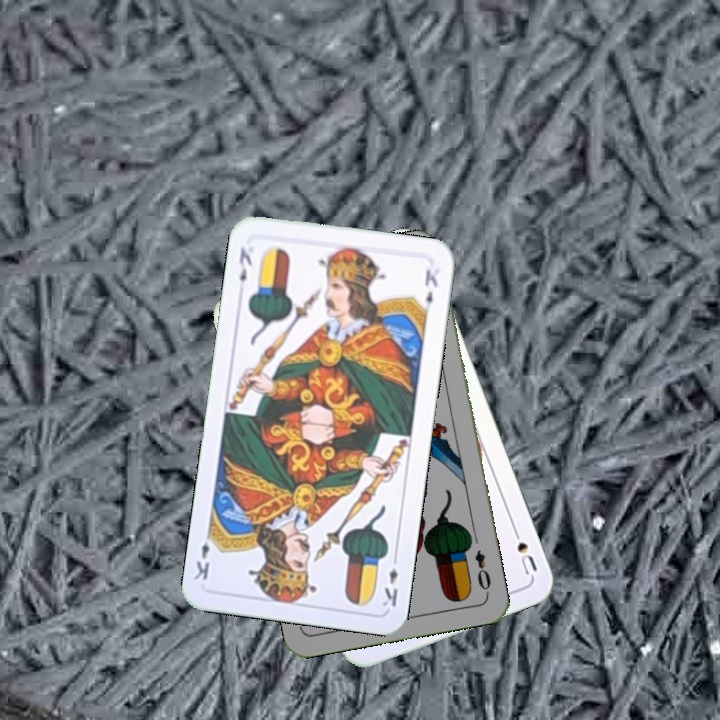EK: (378, 551, 401, 609), (235, 243, 255, 285)
EO: (471, 546, 494, 598)
SU: (507, 521, 540, 578)
